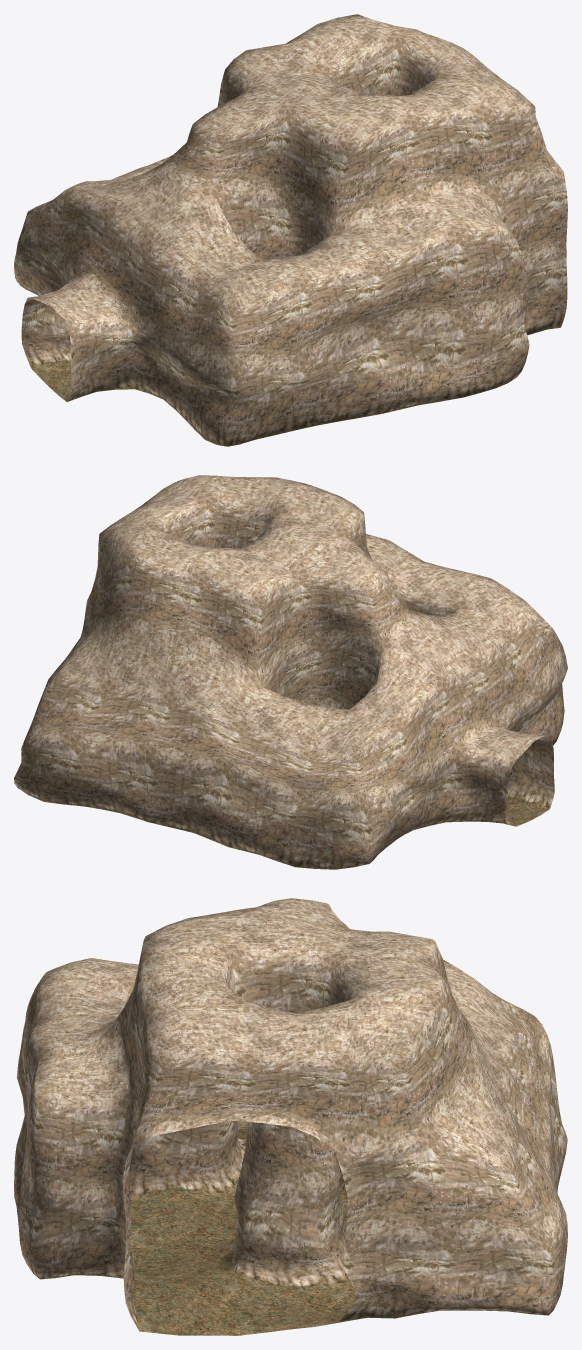
Rendered from thm_all_cave_flatland_s02_r8_mesh_r8.fbx.
The picture shows the model from 3 angles, top to bottom: view 1: azimuth 30°, elevation 25°; view 2: azimuth 150°, elevation 25°; view 3: azimuth 270°, elevation 25°; orthographic projection. The views are drawn at different scales.
Parts seen in each view (by area): view 1: mesh_node; view 2: mesh_node; view 3: mesh_node.
Part boxes in pixels (box(x1,y1,x2,y2)): mesh_node: box(14, 14, 567, 446); mesh_node: box(14, 475, 567, 869); mesh_node: box(14, 898, 567, 1335).
Size of the model in its own units: 58.71 by 31.67 by 51.96.
